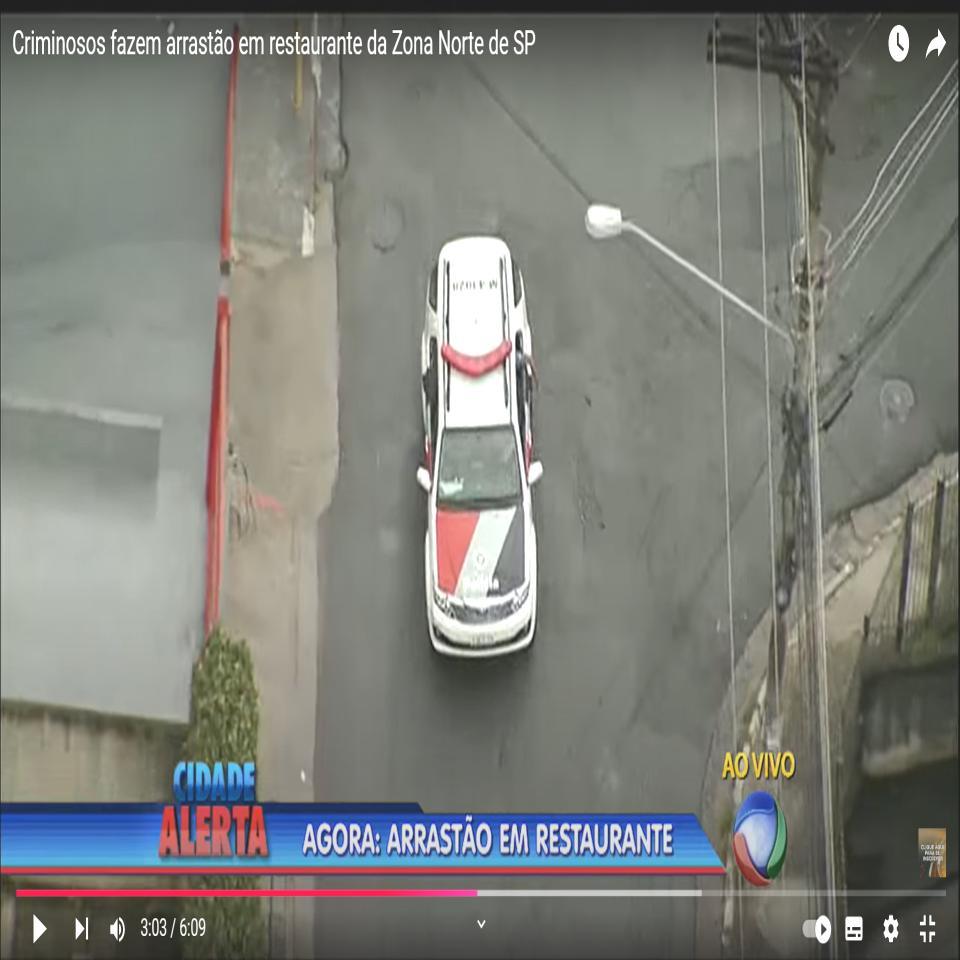viatura: (401, 220, 566, 688)
